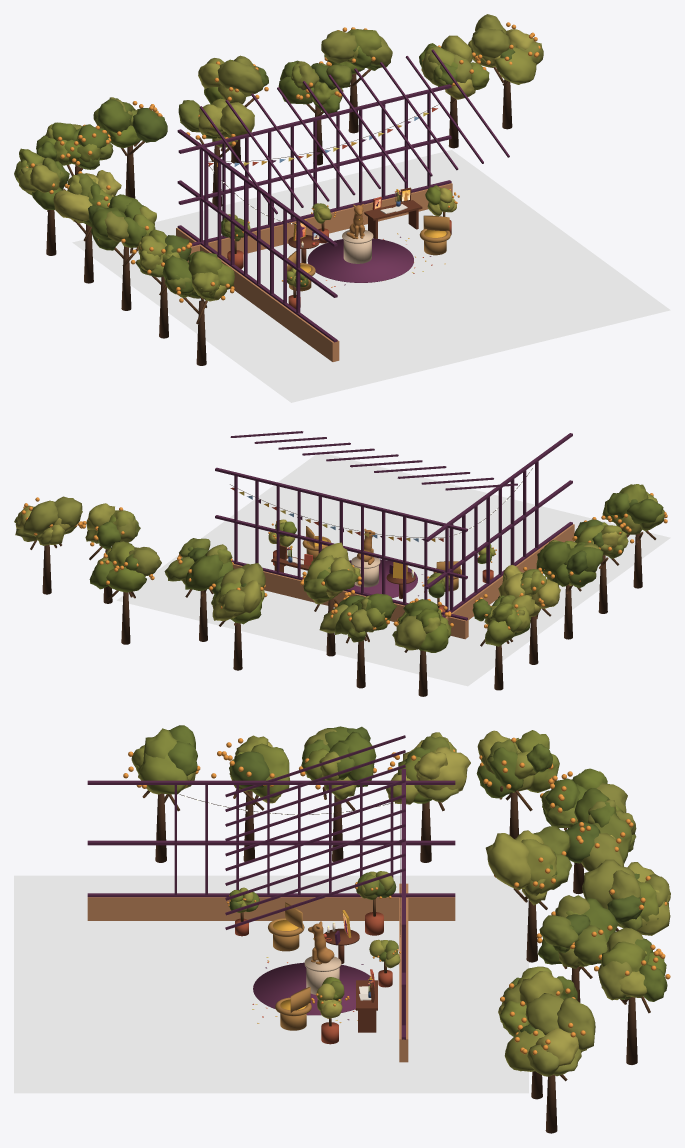
Rendered from A_house.glb.
3 renders of one model, top to bottom at view 1: azimuth 30°, elevation 25°; view 2: azimuth 150°, elevation 25°; view 3: azimuth 270°, elevation 25°, orthographic. The views are drawn at different scales.
Parts seen in each view (by area): view 1: environment_0, environment_2, environment_1, environment_4, environment_8, environment_17, environment_23, environment_16, environment_9, environment_18, environment_13, environment_19 (+14 smaller); view 2: environment_0, environment_2, environment_4, environment_13, environment_8, environment_9, environment_1, environment_16, environment_17, environment_7, environment_19, environment_18 (+14 smaller); view 3: environment_0, environment_2, environment_1, environment_13, environment_16, environment_8, environment_4, environment_17, environment_9, environment_12, environment_15, environment_18 (+16 smaller).
Part boxes in pixels (x1,y1,x2,y2): environment_0: (72,150,670,402); environment_2: (177,49,509,342); environment_1: (176,183,452,361); environment_4: (46,73,512,365); environment_8: (32,47,371,293); environment_17: (21,30,438,298); environment_23: (307,238,413,282); environment_16: (14,29,489,289); environment_9: (36,40,457,296); environment_18: (53,29,534,262); environment_13: (71,14,543,233); environment_19: (29,40,493,275); environment_0: (116,452,670,686); environment_2: (215,431,572,620); environment_4: (42,533,642,696); environment_13: (14,496,449,650); environment_8: (208,493,663,636); environment_9: (89,516,596,623); environment_1: (233,524,574,639); environment_16: (108,493,618,646); environment_17: (15,513,641,616); environment_7: (106,514,530,652); environment_19: (42,524,534,620); environment_18: (15,505,620,616); environment_0: (14,875,528,1093); environment_2: (87,735,455,1039); environment_1: (87,883,455,1062); environment_13: (369,783,670,1076); environment_16: (136,730,658,1036); environment_8: (168,725,616,961); environment_4: (155,790,637,1133); environment_17: (182,728,642,1076); environment_9: (329,741,667,1001); environment_12: (330,736,632,1000); environment_15: (229,726,644,1034); environment_18: (260,740,615,1066).
Size of what is drawn, in the model's own units: 19.9 by 5.52 by 17.86.
58 materials, 4 textured.
